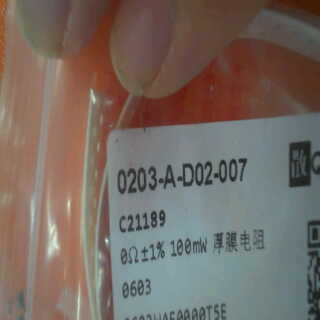0R: (110, 238, 169, 303)
